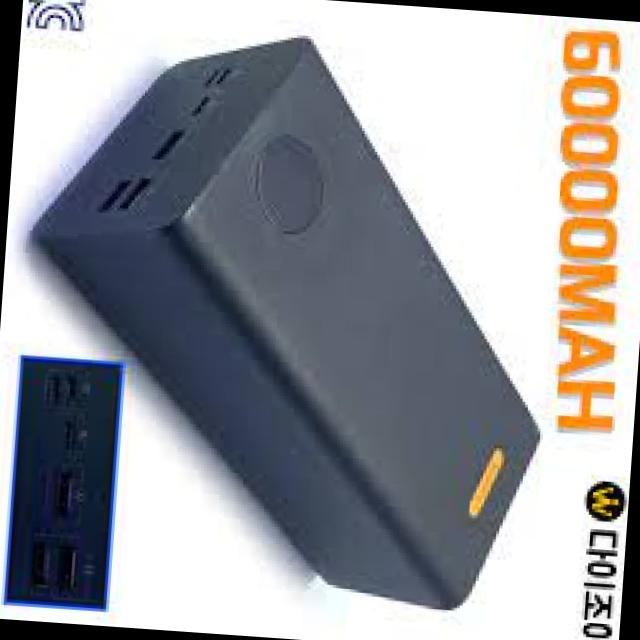power_bank: (2, 13, 567, 620)
